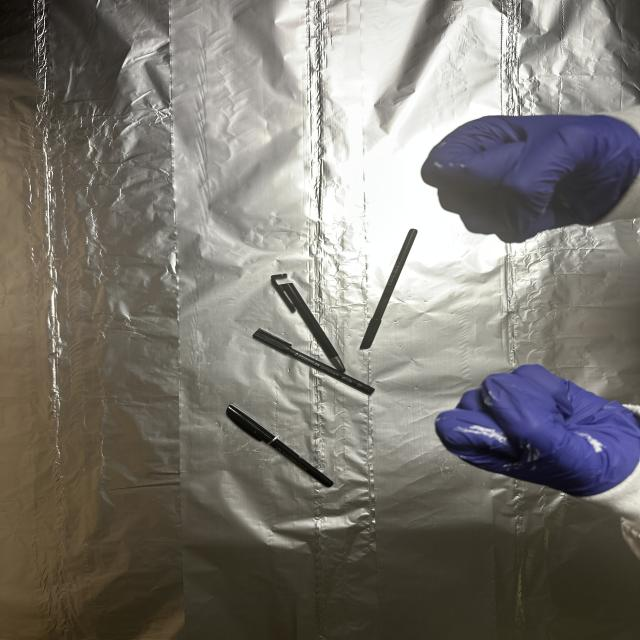gloves_contaminated: (422, 115, 640, 243), (436, 365, 640, 497)
